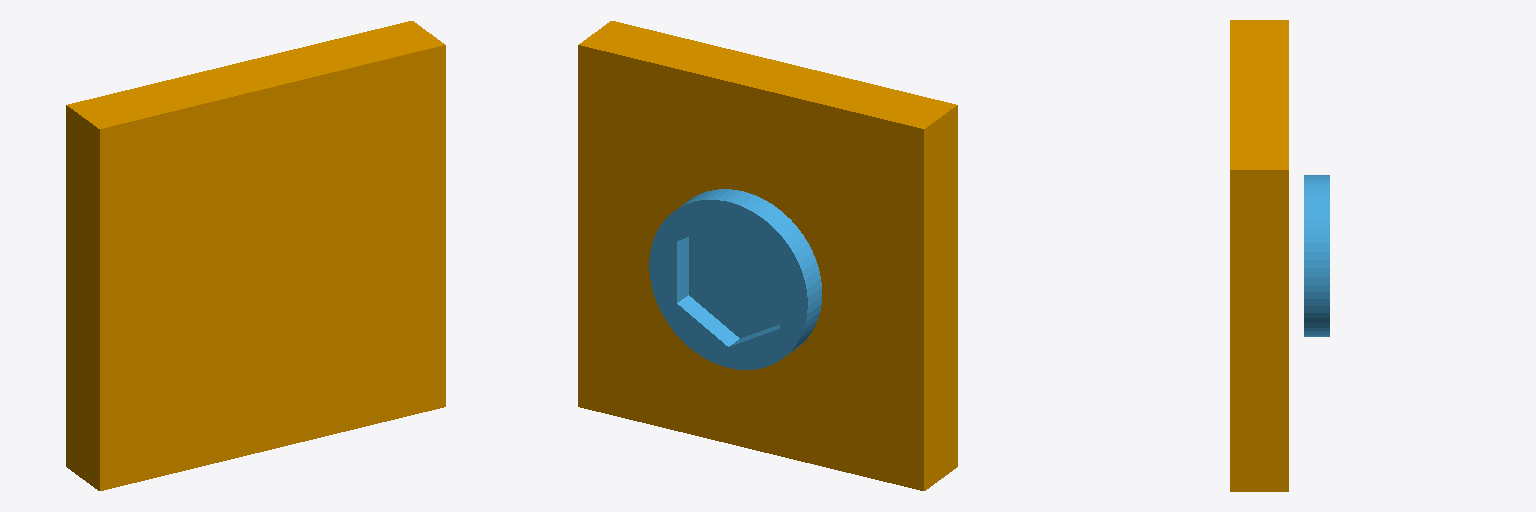
The robot description file, URDF, robot "hex_screw_base":
<?xml version="1.0"?>
<robot name="hex_screw_base">

  <link name="base">
    <visual>
      <origin xyz="0 0.01 0" rpy="0 0 0"/>
      <geometry>
        <box size="0.12 0.02 0.12"/>
      </geometry>
    </visual>	
    <collision>
      <origin xyz="0 0.01 0" rpy="0 0 0"/>
      <geometry>
        <box size="0.12 0.02 0.12"/>
      </geometry>
    </collision>
  </link>

  <link name="screw">
    <visual>
      <origin xyz="0 0 0" rpy="0 0 0"/>
      <geometry>
        <mesh filename="hex_screw/screw_head.obj" scale="0.001375 0.001375 0.001375"/>
      </geometry>
    </visual>	
    <collision>
      <origin xyz="0 0 0" rpy="0 0 0"/>
      <geometry>
        <mesh filename="hex_screw/screw_head.obj" scale="0.001375 0.001375 0.001375"/>
      </geometry>
    </collision>
  </link>

  <joint name="screw_to_base" type="revolute">
    <parent link="base"/>
    <child link="screw"/>
    <origin xyz="0 0.025 0"/>
    <axis xyz="0 1 0"/>
    <limit lower="-3.14" upper="3.14" effort="100" velocity="3"/>
  </joint>

</robot>

--- Facts derived from the render (not from the file) ---
The picture shows the robot from 3 angles, left to right: view 1: azimuth 30°, elevation 25°; view 2: azimuth 150°, elevation 25°; view 3: azimuth 270°, elevation 25°; orthographic projection.
Model hex_screw_base with 2 links and 1 joints (1 revolute), rooted at base, posed all joints at 0.
Visible links, largest first — view 1: base; view 2: base, screw; view 3: base, screw.
Boxes of the visible links, x1,y1,x2,y2 form: base: (66,21,445,490); base: (578,21,957,490); screw: (649,189,821,369); base: (1230,20,1288,491); screw: (1304,175,1329,336).
Bounding box of the posed robot: 0.12 × 0.0337 × 0.12 m (x, y, z).
1 mesh visuals loaded from 1 distinct referenced files (1 OBJ).